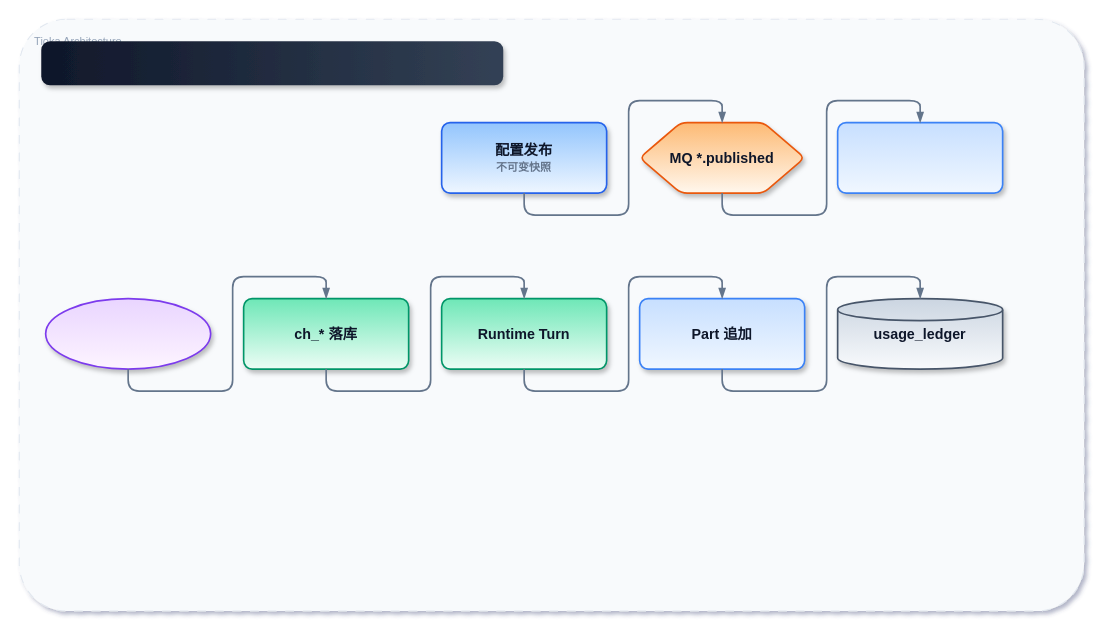
This 1110x637 diagram has some shape labels left out. Each missing label, with the centre of its shape:
"User Message" goes at point (129, 335).
"关键数据流" goes at point (272, 64).
"执行侧缓存失效" goes at point (921, 159).
